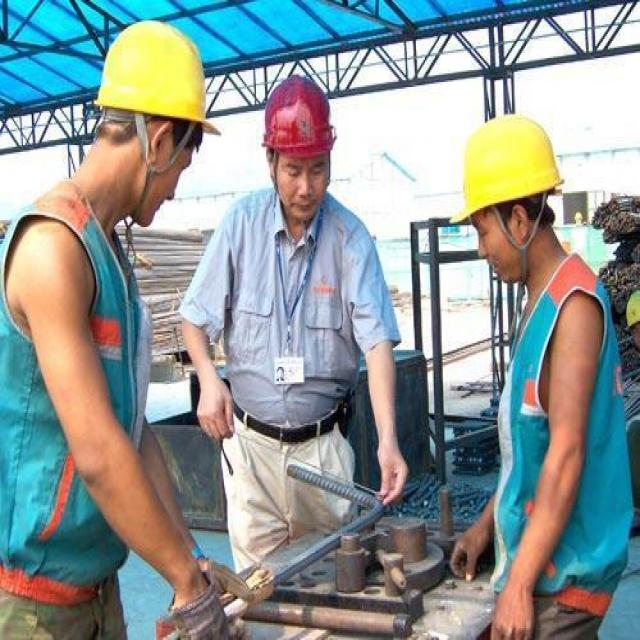hat: (78, 7, 216, 223), (449, 101, 567, 287), (257, 72, 341, 230)
